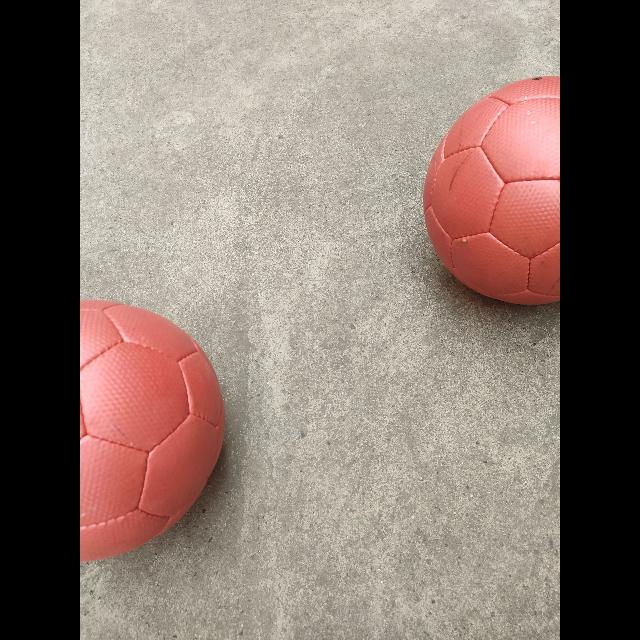R: (80, 302, 226, 560), (424, 76, 560, 306)
